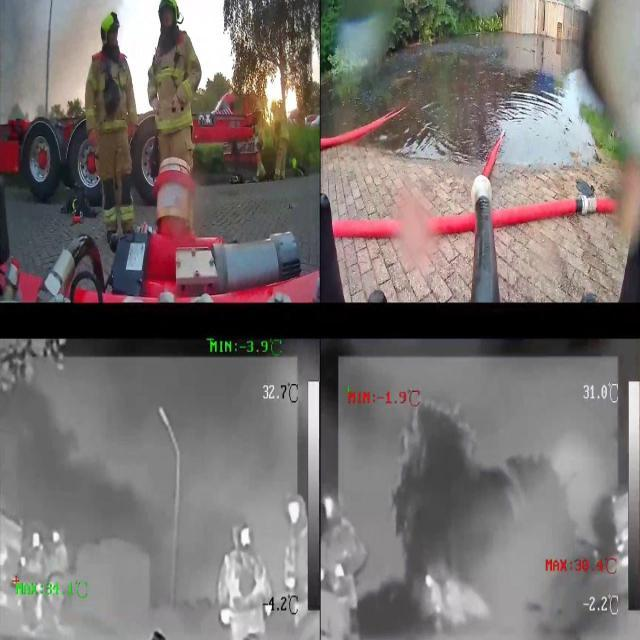Smoke: (0, 0, 123, 119)
